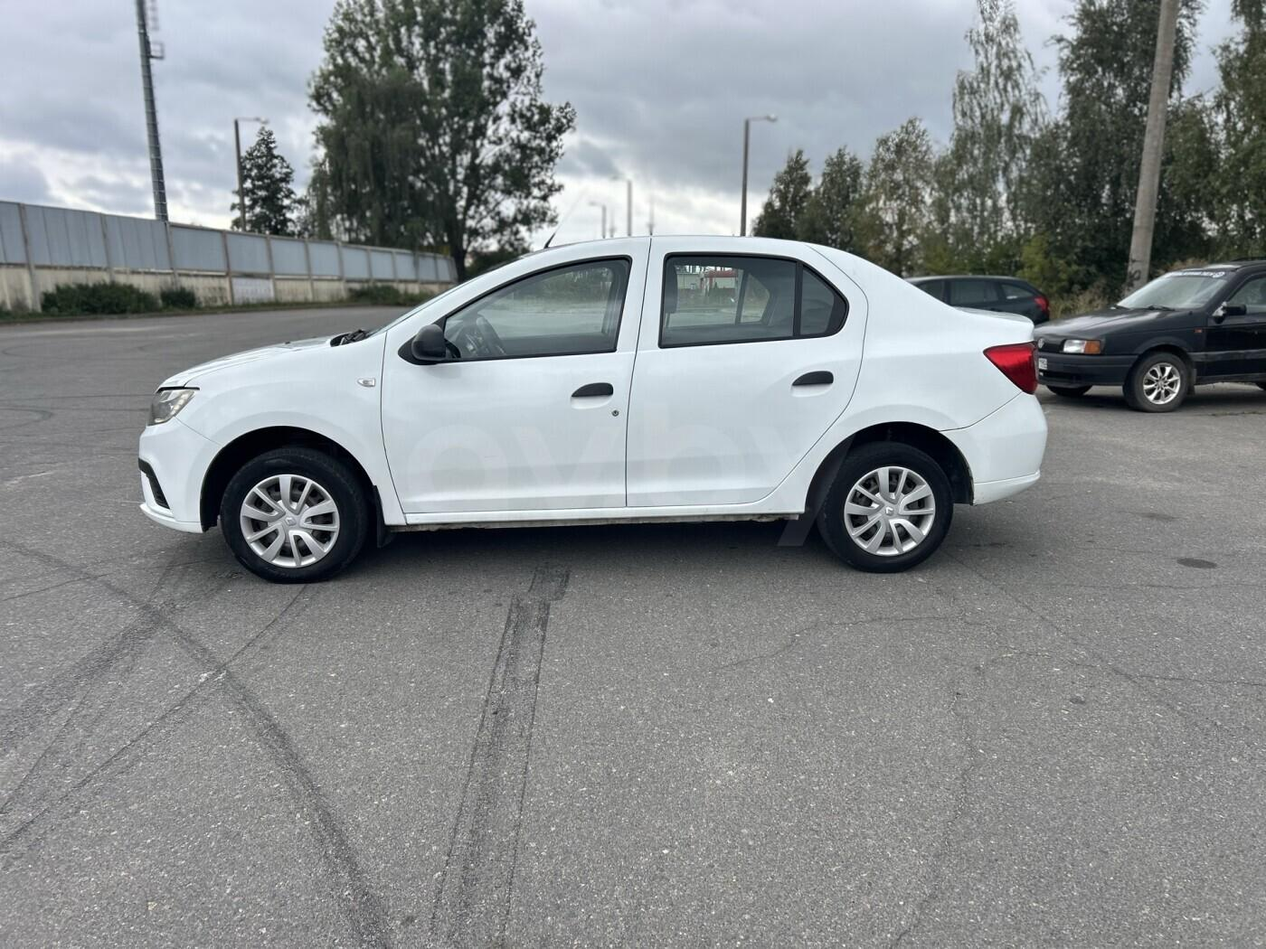Logan_2018: (136, 230, 1052, 609)
